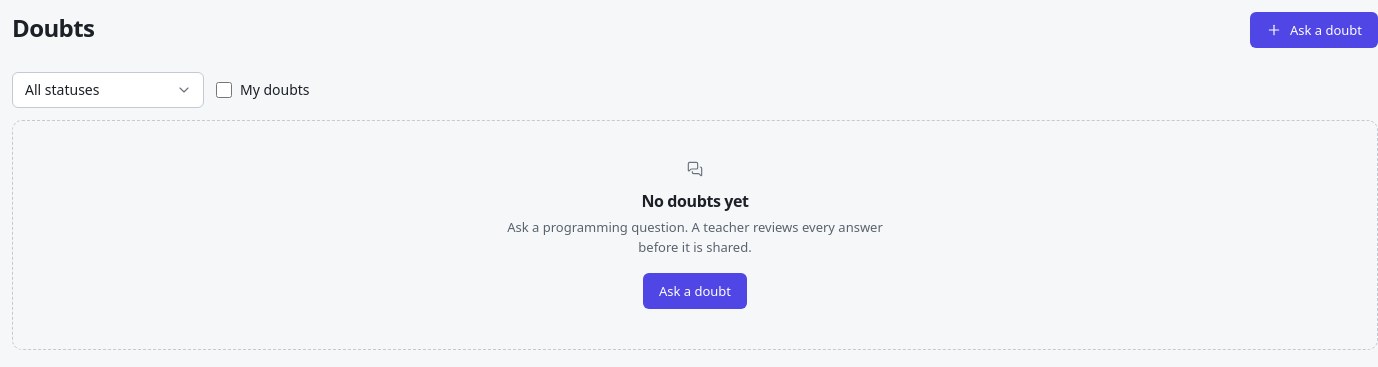
Test: filtering the board › explains an empty result for a filter and clears the filters
Select "Answered" in the dropdown named "Status": (108, 90) top-left (12, 72), bottom-right (204, 108)
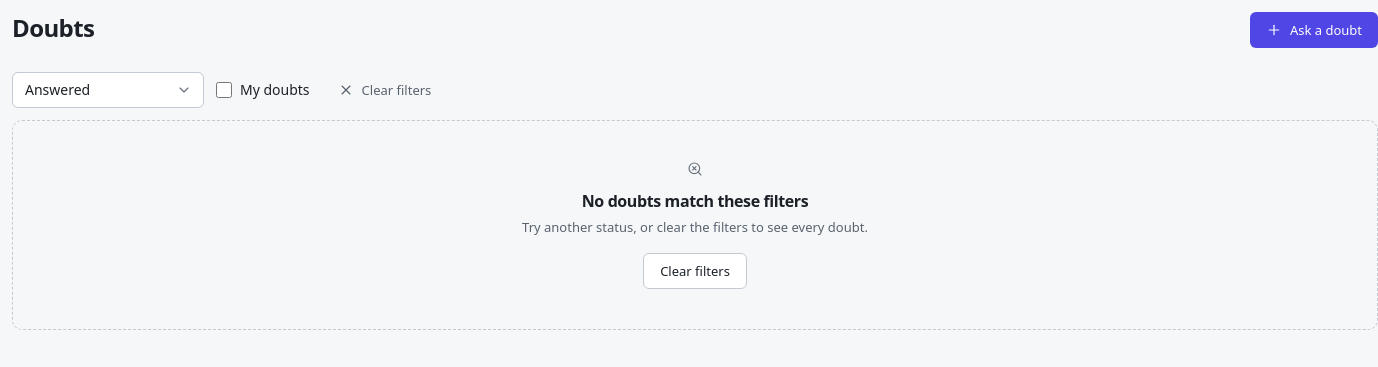
expect the heading "No doubts match these filters" is shown: met, box top-left (582, 189), bottom-right (808, 213)
expect the heading "No doubts yet" is gone: met
Click the button "Clear filters" next to "My doubts": (384, 90) top-left (322, 72), bottom-right (447, 108)
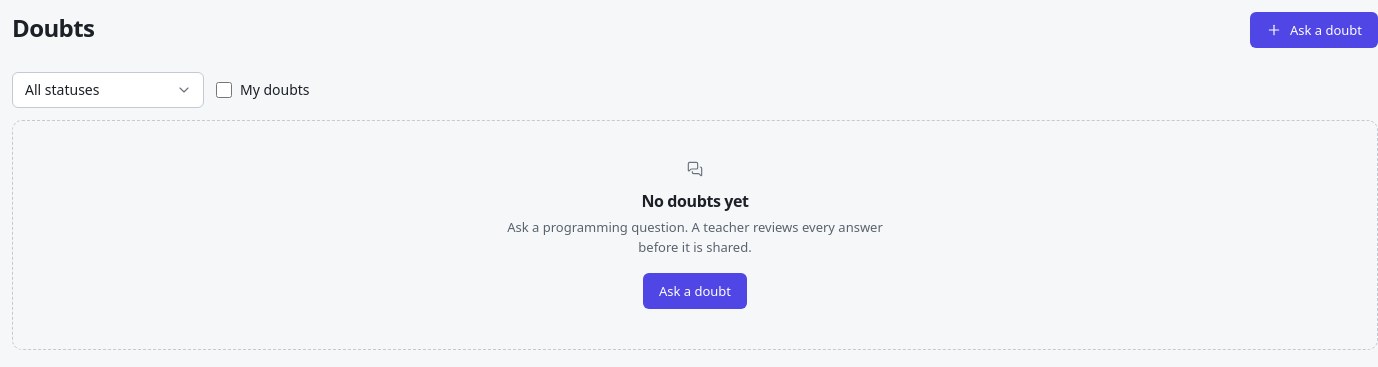
expect the heading "No doubts yet" is shown: met, box top-left (641, 189), bottom-right (748, 213)
